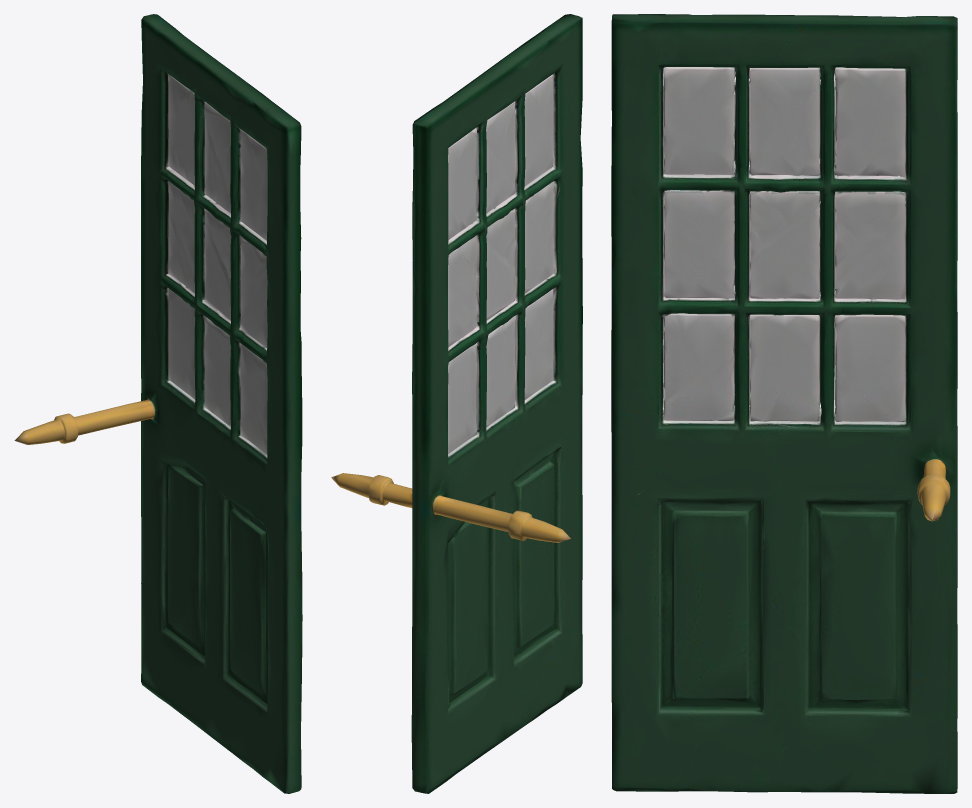
The model's file is leaf_back.glb.
3 renders of one model, left to right at view 1: azimuth 30°, elevation 25°; view 2: azimuth 150°, elevation 25°; view 3: azimuth 270°, elevation 25°, orthographic. The views are drawn at different scales.
Parts seen in each view (by area): view 1: tripo_node_f9bbc652-f561-414d-b84f-5e3ccdc0c110; view 2: tripo_node_f9bbc652-f561-414d-b84f-5e3ccdc0c110; view 3: tripo_node_f9bbc652-f561-414d-b84f-5e3ccdc0c110.
Part boxes in pixels (x1,y1,x2,y2): tripo_node_f9bbc652-f561-414d-b84f-5e3ccdc0c110: (14, 14, 302, 793); tripo_node_f9bbc652-f561-414d-b84f-5e3ccdc0c110: (331, 14, 582, 793); tripo_node_f9bbc652-f561-414d-b84f-5e3ccdc0c110: (611, 14, 957, 793).
Bounding box in the file's own units: 0.3709 × 0.9777 × 0.399.
Materials: 1 (1 with a texture image).
